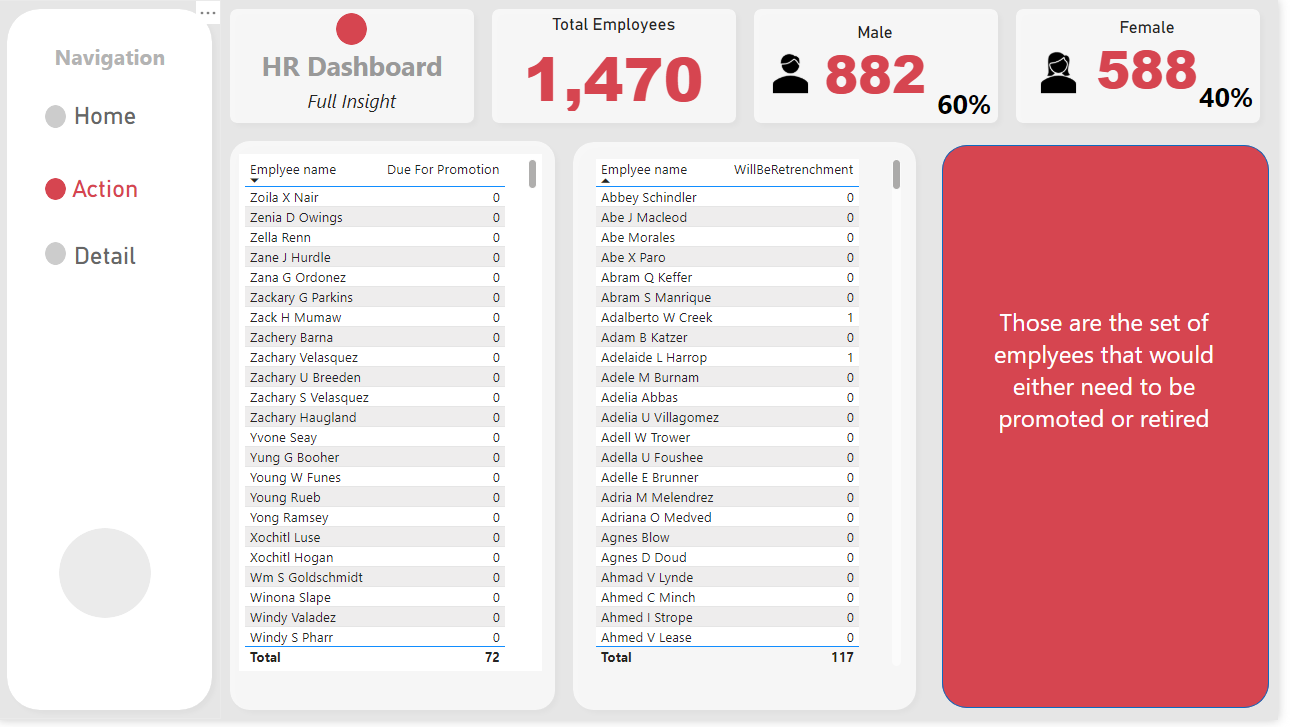

This screenshot's page, from the dashboard's own definition file:
{"tool":"powerbi","page":{"name":"Action","canvas":[1280,720],"ordinal":1},"visuals":[{"type":"shape","box":[0,0,223,719],"z":0,"group":"g1"},{"type":"shape","box":[222.6,132.1,343.2,587],"z":0},{"type":"shape","box":[223,0,262,132],"z":1000},{"type":"shape","box":[485,0,262,132],"z":2000},{"type":"shape","box":[747,0,262,132],"z":3000},{"type":"shape","box":[1009,0,262,132],"z":4000},{"type":"textbox","box":[223,42,262,48],"z":5000},{"type":"textbox","box":[282,83,143,38],"z":6000},{"type":"shape","box":[338,13,31,32],"z":7000},{"type":"group","id":"g1","title":"Group 2","box":[0,0,222.6,719.1],"z":8000},{"type":"card","title":"Male","fields":{"Values":["All Measures.Male"]},"box":[802.2,22.2,150,80],"z":9000},{"type":"card","title":"Female","fields":{"Values":["All Measures.Female"]},"box":[1061.1,16.7,175.6,81.1],"z":10000},{"type":"card","fields":{"Values":["All Measures.% Male"]},"box":[933.3,83.3,65.6,42.2],"z":11000},{"type":"card","fields":{"Values":["All Measures.% Female"]},"box":[1195.6,78.9,64.4,36.7],"z":12000},{"type":"card","title":"Total Employees","fields":{"Values":["All Measures.Total Emp"]},"box":[507.8,14.4,215.6,101.1],"z":13000},{"type":"textbox","box":[13,37,198,38],"z":13501,"group":"g1"},{"type":"image","box":[761.1,41.1,63.3,65.6],"z":14000},{"type":"image","box":[1028.9,41.1,63.3,65.6],"z":15000},{"type":"tableEx","fields":{"Values":["HR Analytics Data.Emplyee name","All Measures.Due For Promotion"]},"box":[241.2,154.3,303.3,516.9],"z":16000},{"type":"shape","box":[565.7,133,361.8,586.1],"z":17000},{"type":"tableEx","fields":{"Values":["HR Analytics Data.Emplyee name","All Measures.WillBeRetrenchment"]},"box":[592.3,154.3,315.7,516.9],"z":18000},{"type":"actionButton","title":"Action","box":[37.4,174.9,139.8,56.7],"z":19000},{"type":"actionButton","title":"Detail","box":[37.4,242.1,139.8,58],"z":20000},{"type":"shape","box":[46.7,177.5,21.1,22.4],"z":21000},{"type":"shape","box":[46.7,242.1,21.1,22.4],"z":22000},{"type":"shape","box":[61.2,528.3,92.3,89.7],"z":23000},{"type":"shape","box":[944.3,144.5,326.3,563.9],"z":24000},{"type":"textbox","box":[976.3,299.7,259.8,219],"z":25000},{"type":"actionButton","title":"Home","box":[37.2,102,140.1,56.7],"z":26000},{"type":"shape","box":[47,104.6,21.3,23.1],"z":27000}]}

Visuals, with their boxes in screenshot pixels (x1, y1, x2, y2), scaled from the page's 1280x720 canvas onto the 1290x727 screenshot:
shape: bbox(0, 0, 225, 726)
shape: bbox(224, 133, 570, 726)
shape: bbox(225, 0, 489, 133)
shape: bbox(489, 0, 753, 133)
shape: bbox(753, 0, 1017, 133)
shape: bbox(1017, 0, 1281, 133)
textbox: bbox(225, 42, 489, 91)
textbox: bbox(284, 84, 428, 122)
shape: bbox(341, 13, 372, 45)
"Group 2" group: bbox(0, 0, 224, 726)
"Male" card: bbox(808, 22, 960, 103)
"Female" card: bbox(1069, 17, 1246, 99)
card - All Measures.% Male: bbox(941, 84, 1007, 127)
card - All Measures.% Female: bbox(1205, 80, 1270, 117)
"Total Employees" card: bbox(512, 15, 729, 117)
textbox: bbox(13, 37, 213, 76)
image: bbox(767, 41, 831, 108)
image: bbox(1037, 41, 1101, 108)
tableEx - HR Analytics Data.Emplyee name x All Measures.Due For Promotion: bbox(243, 156, 549, 678)
shape: bbox(570, 134, 935, 726)
tableEx - HR Analytics Data.Emplyee name x All Measures.WillBeRetrenchment: bbox(597, 156, 915, 678)
"Action" actionButton: bbox(38, 177, 179, 234)
"Detail" actionButton: bbox(38, 244, 179, 303)
shape: bbox(47, 179, 68, 202)
shape: bbox(47, 244, 68, 267)
shape: bbox(62, 533, 155, 624)
shape: bbox(952, 146, 1281, 715)
textbox: bbox(984, 303, 1246, 524)
"Home" actionButton: bbox(37, 103, 179, 160)
shape: bbox(47, 106, 69, 129)
